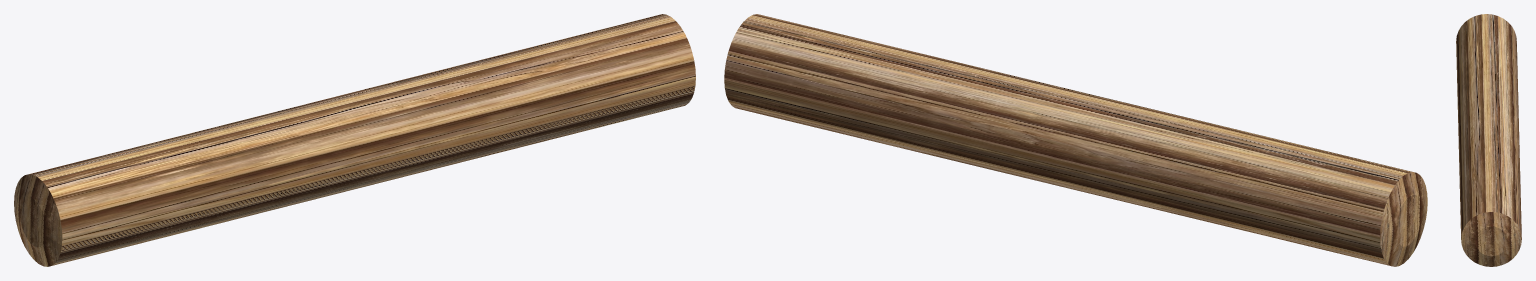
File: untitled 2дерево.fbx
3 views of the same model, side by side, from view 1: azimuth 30°, elevation 25°; view 2: azimuth 150°, elevation 25°; view 3: azimuth 270°, elevation 25° (orthographic). The views are drawn at different scales.
Visible parts, largest first — view 1: Cylinder.003; view 2: Cylinder.003; view 3: Cylinder.003.
Boxes of the visible parts, left/top/right/bottom form: Cylinder.003: left=14, top=14, right=695, bottom=266; Cylinder.003: left=724, top=14, right=1427, bottom=266; Cylinder.003: left=1456, top=14, right=1521, bottom=266.
Size of the model in its own units: 164 by 21.21 by 22.47.
